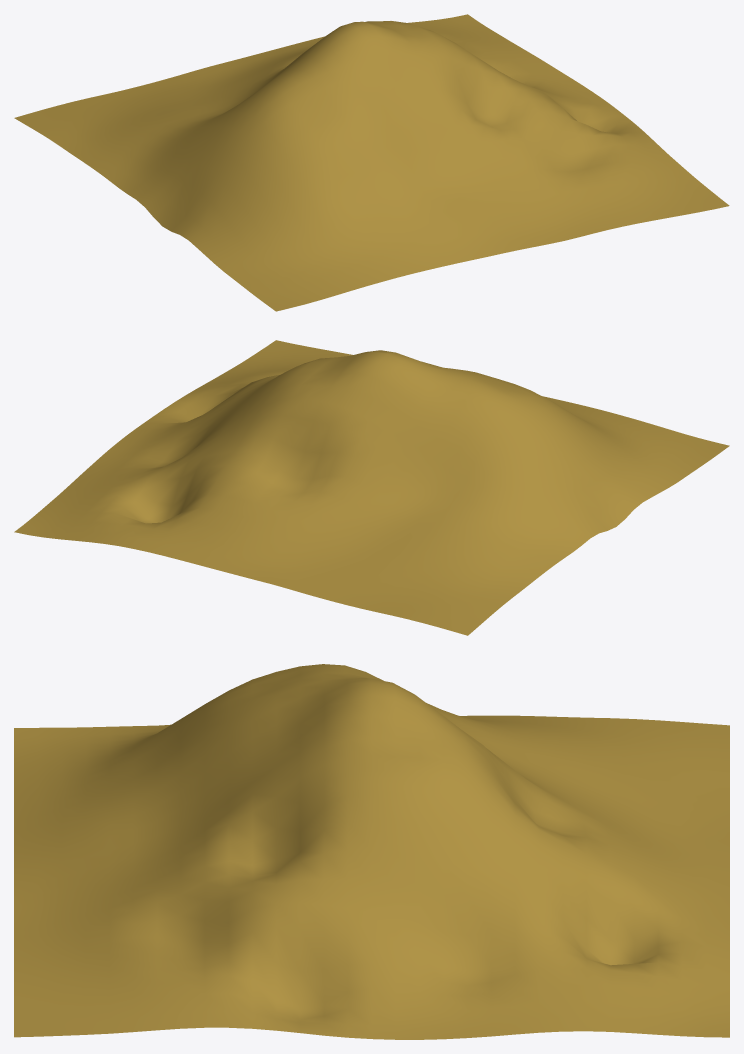
Rendered from rawGoldenMountain.fbx.
3 renders of one model, top to bottom at view 1: azimuth 30°, elevation 25°; view 2: azimuth 150°, elevation 25°; view 3: azimuth 270°, elevation 25°, orthographic. The views are drawn at different scales.
Visible parts, largest first — view 1: pPlane1; view 2: pPlane1; view 3: pPlane1.
Part boxes in pixels (x1,y1,x2,y2): pPlane1: (14, 14, 729, 311); pPlane1: (14, 340, 729, 635); pPlane1: (14, 664, 729, 1039).
Bounding box in the file's own units: 12.79 × 3.72 × 12.49.
